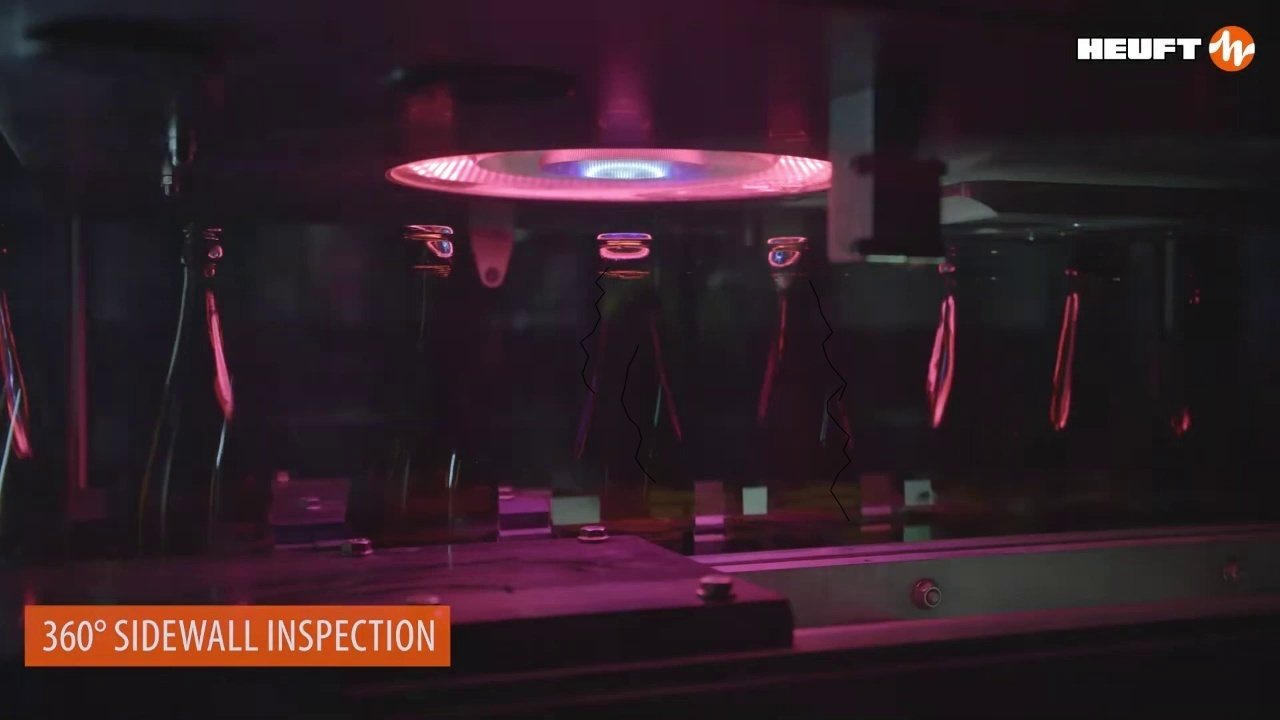bottle: (730, 240, 860, 551), (568, 232, 683, 550)
crack: (621, 344, 655, 482), (827, 385, 850, 521)
